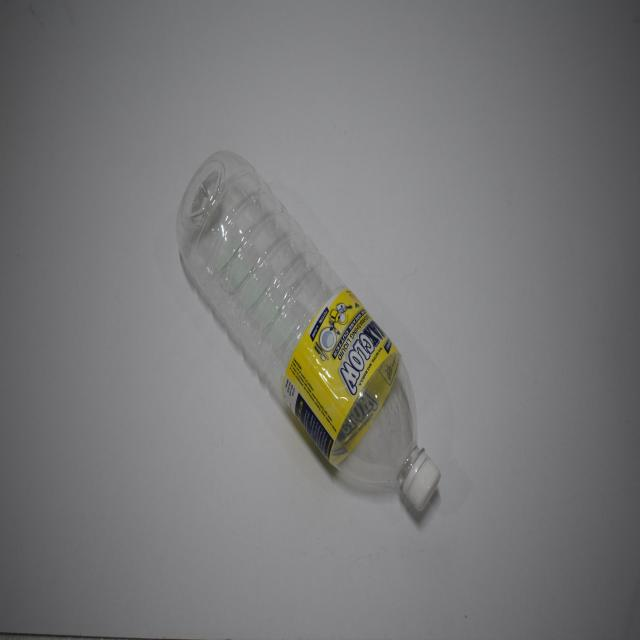bottle: (165, 148, 452, 527)
